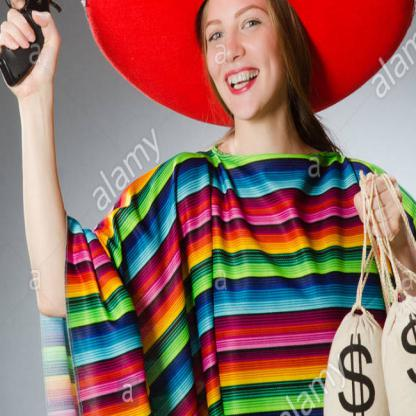gun: (0, 0, 66, 93)
